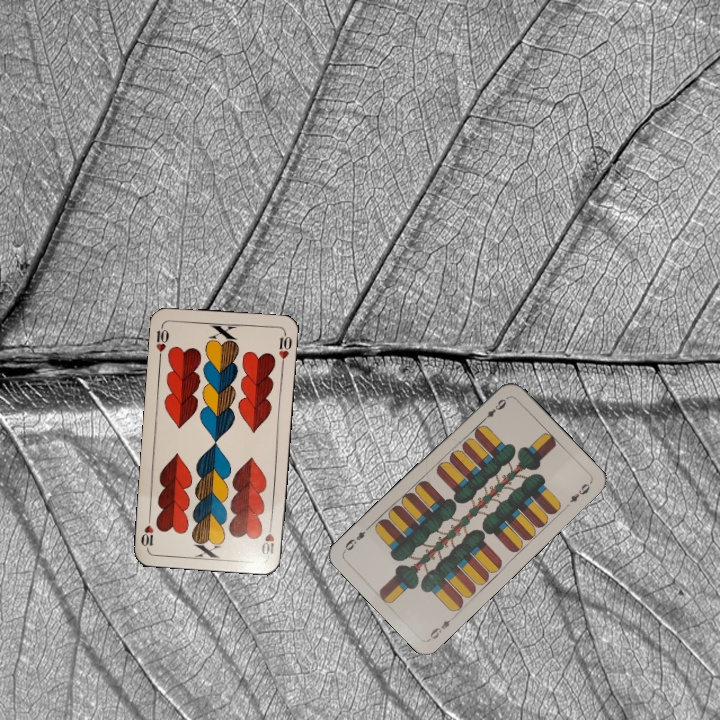E9: (478, 393, 510, 425), (425, 611, 458, 642)
H10: (258, 518, 277, 559), (152, 321, 171, 362)
